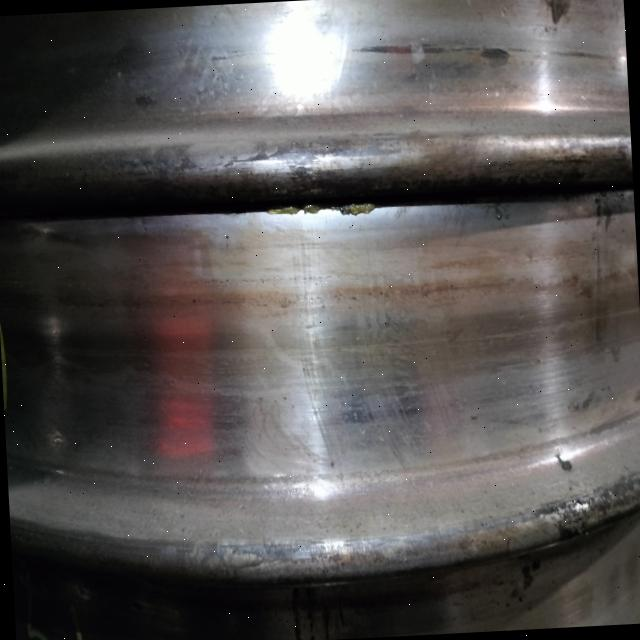Contact_Fatigue_Cracks: (177, 528, 343, 590)
Rollerpile: (537, 480, 633, 546)
